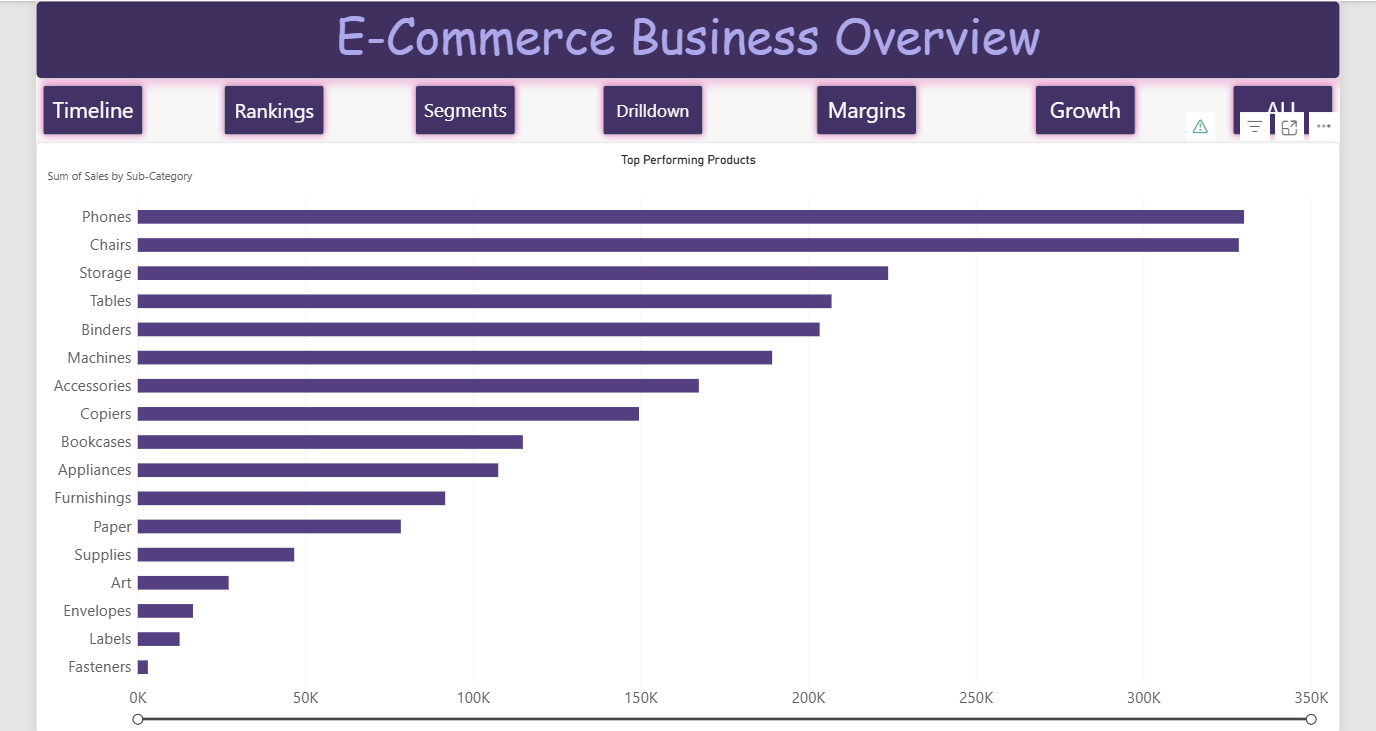

What the dashboard file says about the page in this screenshot:
{"tool":"powerbi","page":{"name":"Rankings","canvas":[1920,1080],"ordinal":2},"visuals":[{"type":"textbox","title":"E-Commerce Business Overview","box":[0,0,1919.6,114.1],"z":0},{"type":"actionButton","box":[0,113.6,167.6,93.1],"z":1000},{"type":"actionButton","box":[266.3,113.6,167.6,93.1],"z":2000},{"type":"actionButton","box":[549.3,113.6,167.6,93.1],"z":3000},{"type":"actionButton","box":[824.8,113.6,167.6,93.1],"z":4000},{"type":"actionButton","box":[1139.5,113.6,167.6,93.1],"z":5000},{"type":"actionButton","box":[1461.6,113.6,167.6,93.1],"z":6000},{"type":"actionButton","box":[1752.1,113.6,167.6,93.1],"z":7000},{"type":"clusteredBarChart","title":"Top Performing Products","fields":{"Category":["Orders.Sub-Category"],"Y":["Sum(Orders.Sales)"]},"box":[0,208,1919.6,872.4],"z":8000}]}

Visuals, with their boxes on the page's 1920x1080 design canvas (x1, y1, x2, y2). These are canvas units, not pixel positions in the 1376x731 screenshot, which may show the page scaled, cropped or inside an application window:
"E-Commerce Business Overview" textbox: <region>0, 0, 1920, 114</region>
actionButton: <region>0, 114, 168, 207</region>
actionButton: <region>266, 114, 434, 207</region>
actionButton: <region>549, 114, 717, 207</region>
actionButton: <region>825, 114, 992, 207</region>
actionButton: <region>1140, 114, 1307, 207</region>
actionButton: <region>1462, 114, 1629, 207</region>
actionButton: <region>1752, 114, 1920, 207</region>
"Top Performing Products" clusteredBarChart: <region>0, 208, 1920, 1080</region>
